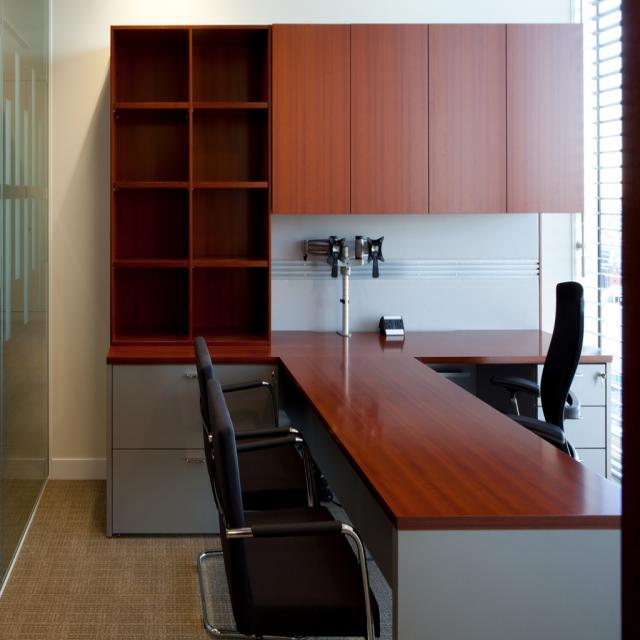chair: (194, 332, 380, 633), (490, 279, 584, 458)
desk: (142, 234, 620, 631)
